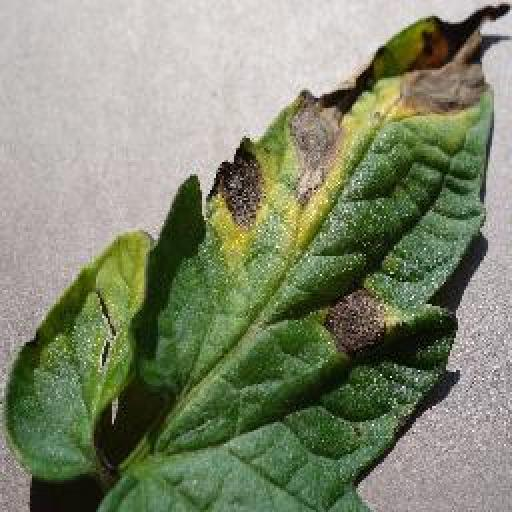disease_tomato: (2, 0, 512, 512)
